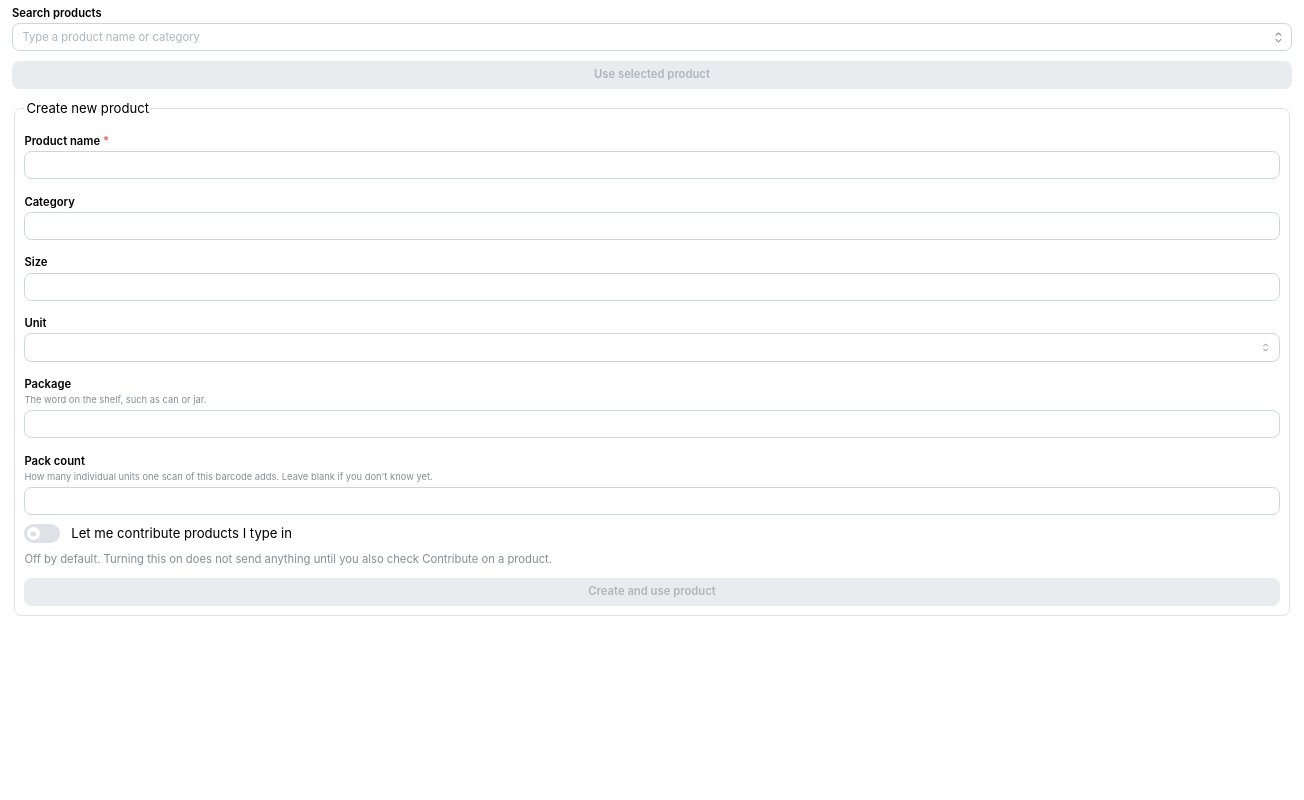
Scenario: FlaggedEntryResolver › clears the selected product when the search text changes
The image size is (1304, 800).
Click the dropdown labelled "Search products".
click(652, 37)  # box x1=12 y1=23 x2=1292 y2=51
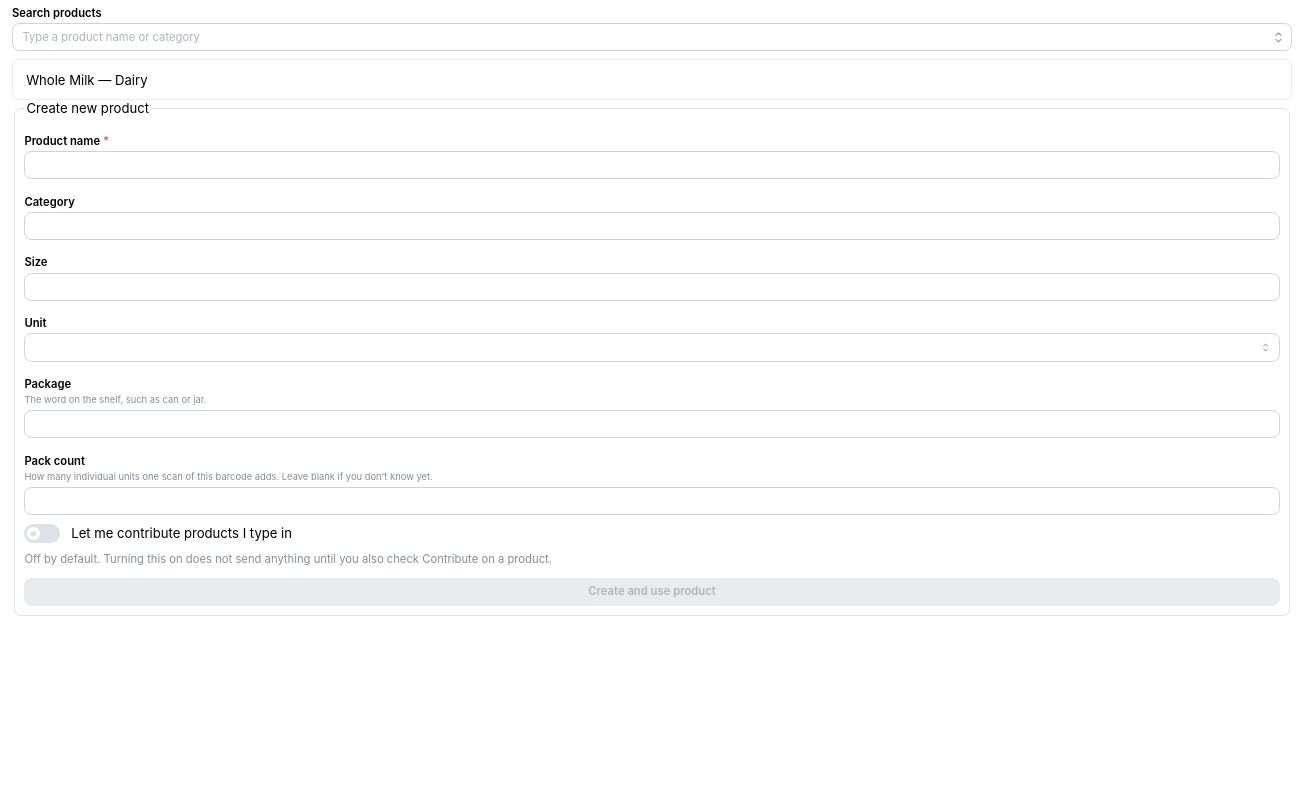
Click the option "Whole Milk — Dairy".
click(87, 80)  # box x1=26 y1=72 x2=148 y2=88
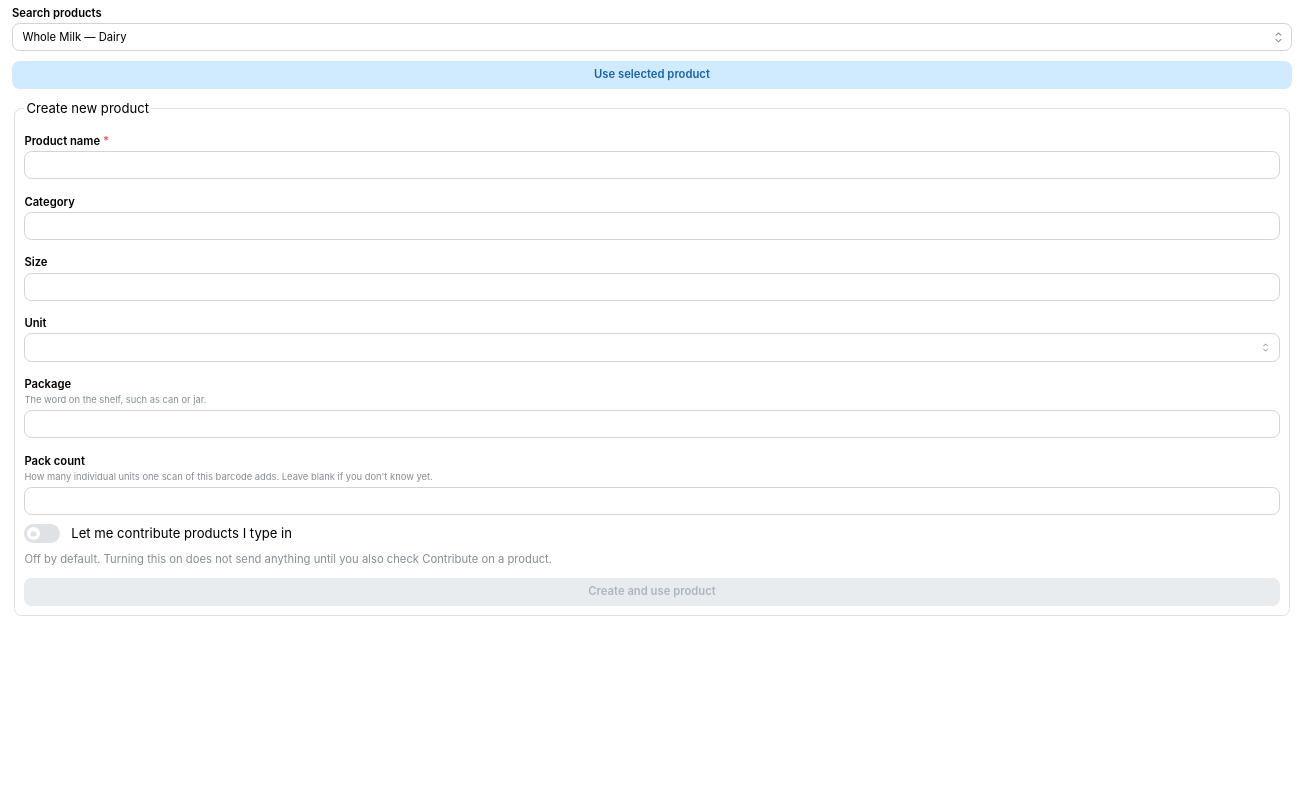
Result: the button "Use selected product" is enabled at x1=12 y1=61 x2=1292 y2=89
Replace the text in the dropdown labelled "Search products" with "something else" at (652, 37), box x1=12 y1=23 x2=1292 y2=51
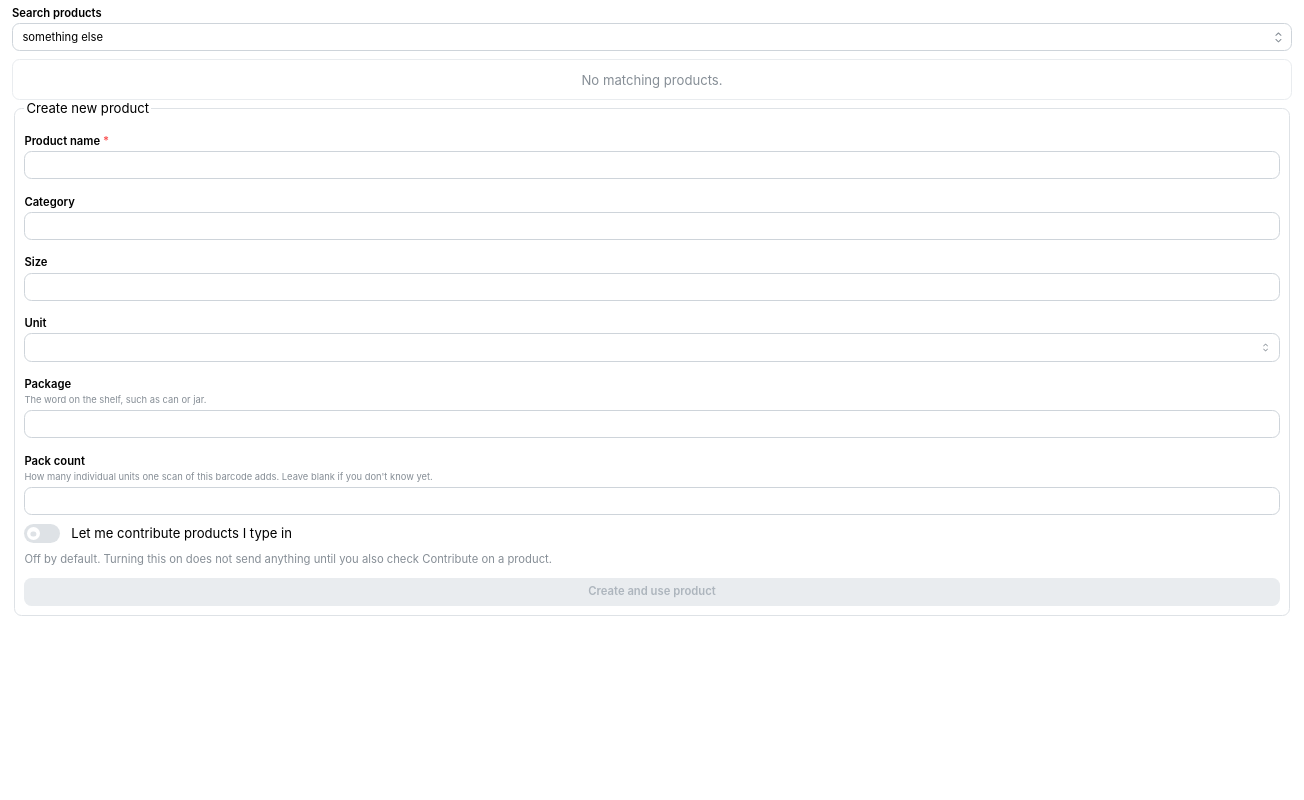
Result: the button "Use selected product" is disabled at x1=12 y1=61 x2=1292 y2=89
Result: the text "No matching products." is shown at x1=582 y1=72 x2=723 y2=88
